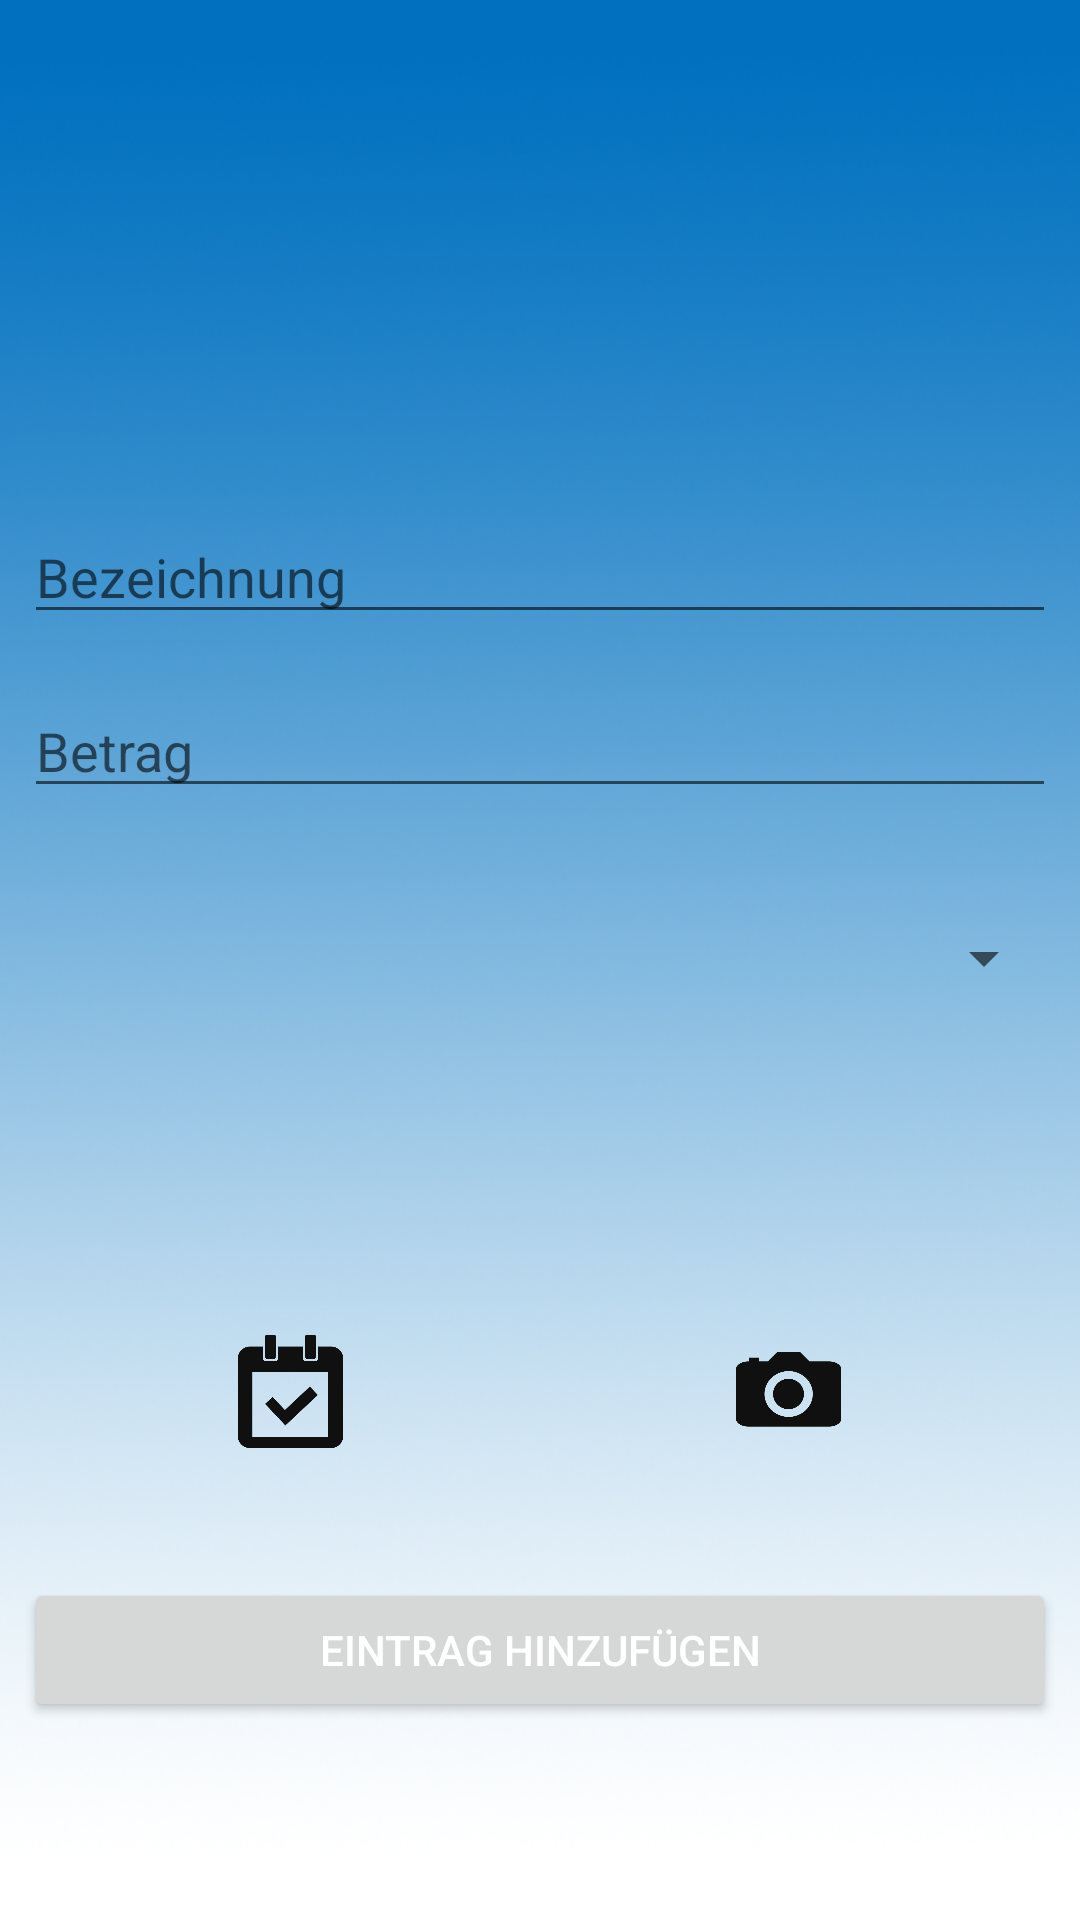

Icon click points for this 1080 x 1920 phone screenshot, format point (x, y):
calendericon: point (290, 1391)
fotoicon: point (788, 1389)
